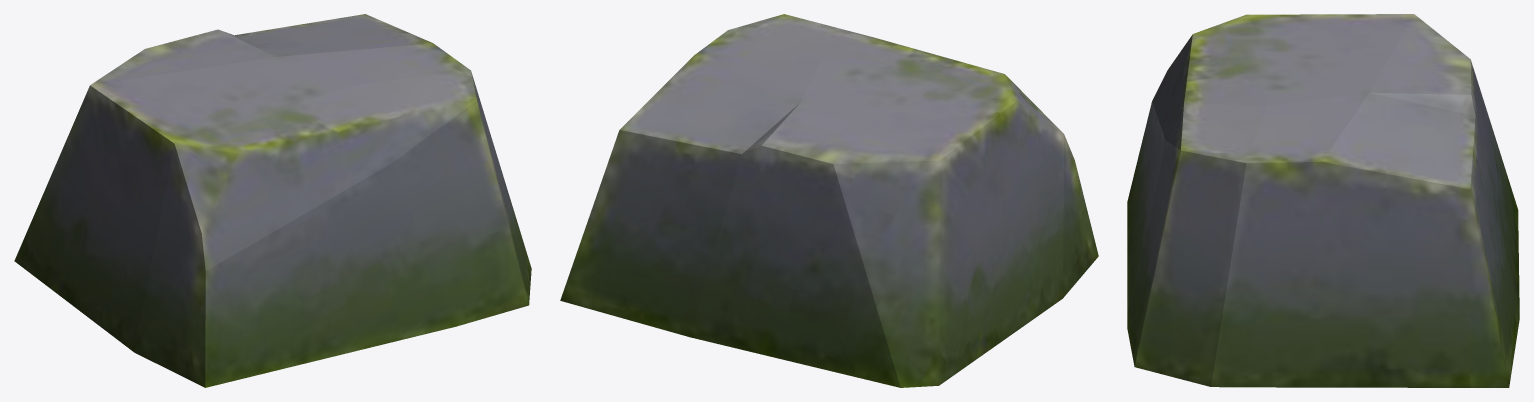
The model's file is pebble_square_4.gltf.
3 views of the same model, side by side, from view 1: azimuth 30°, elevation 25°; view 2: azimuth 150°, elevation 25°; view 3: azimuth 270°, elevation 25° (orthographic). The views are drawn at different scales.
Visible parts, largest first — view 1: Pebble_Square_4; view 2: Pebble_Square_4; view 3: Pebble_Square_4.
Part boxes in pixels (box(x1,y1,x2,y2)): Pebble_Square_4: box(14, 14, 531, 387); Pebble_Square_4: box(560, 14, 1098, 387); Pebble_Square_4: box(1127, 14, 1519, 387).
Size of the model in its own units: 0.3399 by 0.1683 by 0.2908.
Materials: 1 (1 with a texture image).
